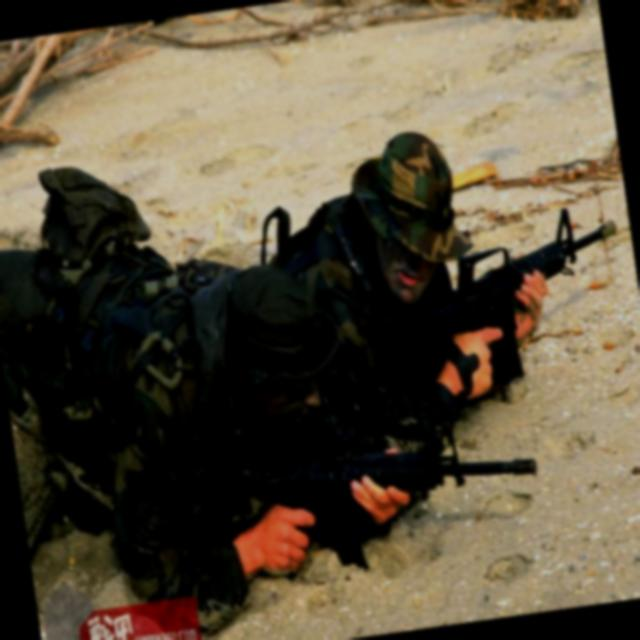m16: (374, 170, 640, 417)
